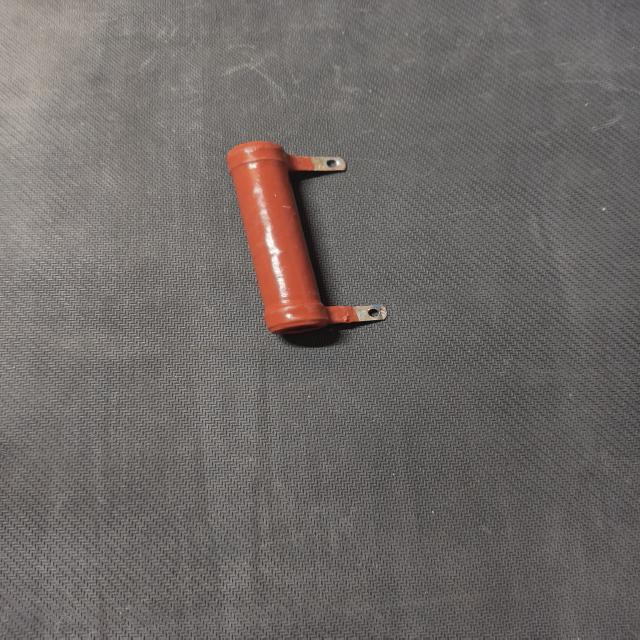resistor: (217, 127, 404, 353)
